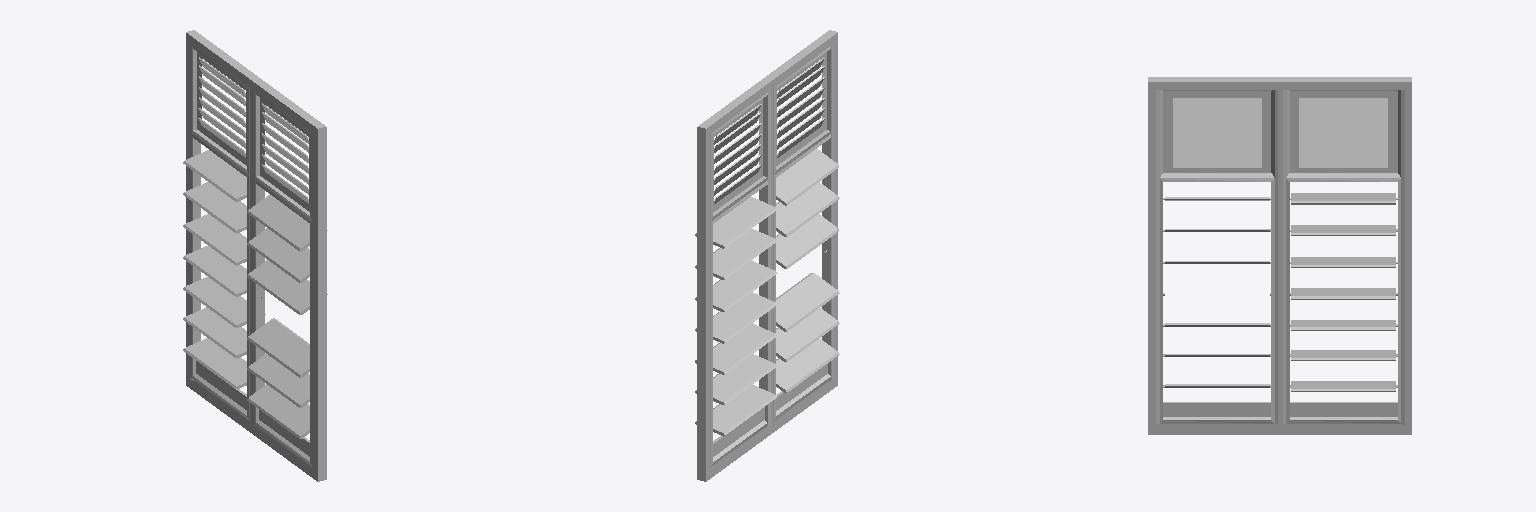
File: janale00.obj
3 renders of one model, left to right at view 1: azimuth 30°, elevation 25°; view 2: azimuth 150°, elevation 25°; view 3: azimuth 270°, elevation 25°, orthographic.
Visible parts, largest first — view 1: window_center_Cube.001; view 2: window_center_Cube.001; view 3: window_center_Cube.001.
Boxes of the visible parts, x1=… form: window_center_Cube.001: x1=183, y1=30, x2=327, y2=481; window_center_Cube.001: x1=695, y1=30, x2=839, y2=481; window_center_Cube.001: x1=1148, y1=77, x2=1411, y2=434.
Bounding box in the file's own units: 1.02 × 11.19 × 7.59.